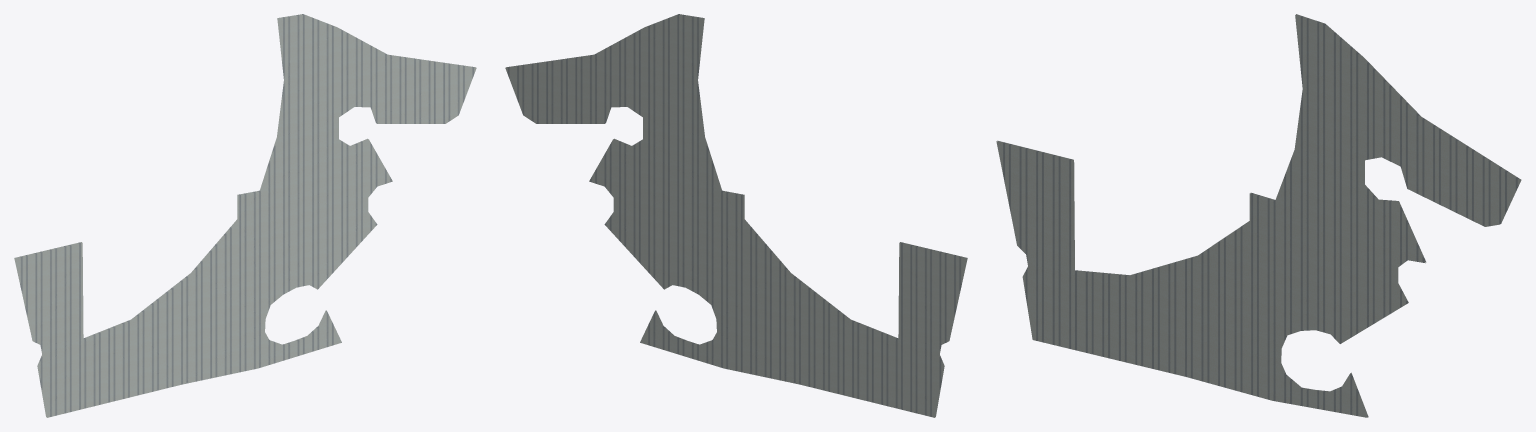
Rendered from floor_68.obj.
3 views of the same model, side by side, from view 1: azimuth 30°, elevation 25°; view 2: azimuth 150°, elevation 25°; view 3: azimuth 330°, elevation 25° (orthographic). The views are drawn at different scales.
Parts seen in each view (by area): view 1: floor_68; view 2: floor_68; view 3: floor_68.
Part boxes in pixels (<box>): floor_68: <box>14,14,476,417</box>; floor_68: <box>505,14,967,417</box>; floor_68: <box>996,14,1521,417</box>.
Size of the model in its own units: 31.7 by 22.63 by 0.1.
Materials: 1 (1 with a texture image).
